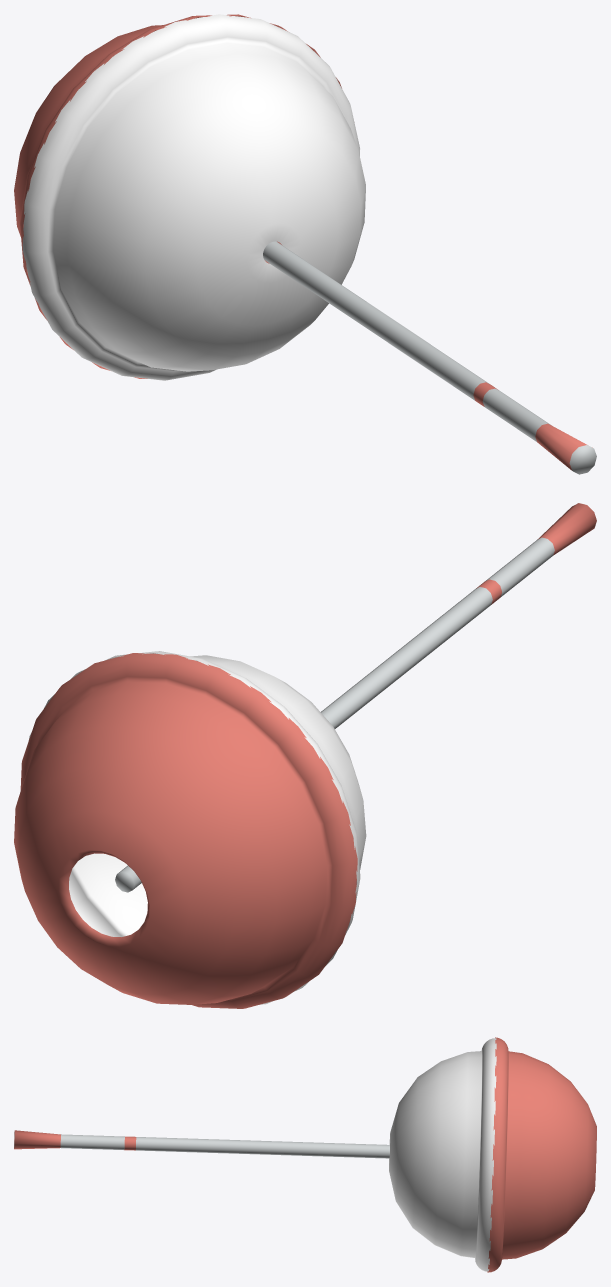
Rendered from rodextra.fbx.
The picture shows the model from 3 angles, top to bottom: view 1: azimuth 30°, elevation 25°; view 2: azimuth 150°, elevation 25°; view 3: azimuth 270°, elevation 25°; orthographic projection. The views are drawn at different scales.
Visible parts, largest first — view 1: pCylinder19; view 2: pCylinder19; view 3: pCylinder19.
Boxes of the visible parts, x1=… form: pCylinder19: x1=14, y1=14, x2=596, y2=474; pCylinder19: x1=14, y1=503, x2=596, y2=1008; pCylinder19: x1=14, y1=1037, x2=596, y2=1272.
Bounding box in the file's own units: 0.9449 × 2.35 × 0.9445.
